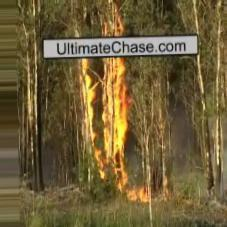fire: (75, 3, 155, 204)
